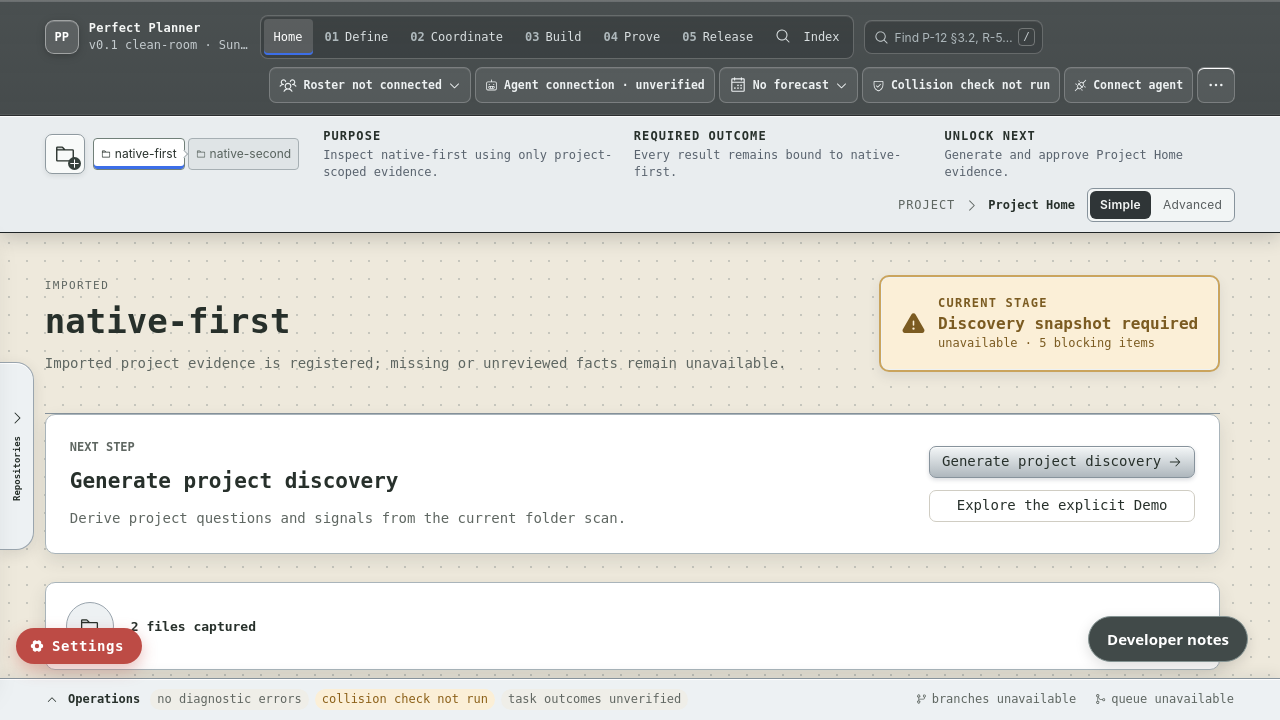
Test: real controller routes the UI request to exact native command and records verified numeric-time observation
Click the button named "More actions" at (1216, 85), box [1197, 67, 1235, 103]
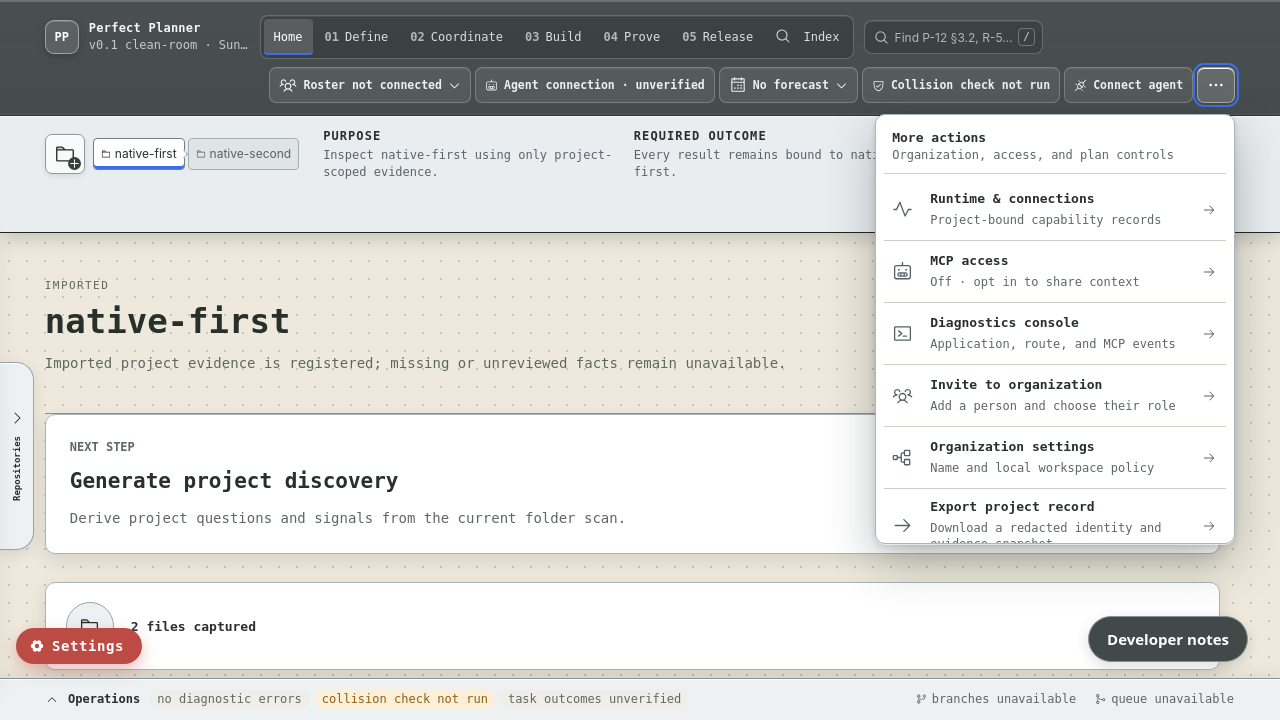
Click the button "Runtime & connections Project-bound capability records" at (1055, 210), box [884, 179, 1226, 241]
(page scrolled)
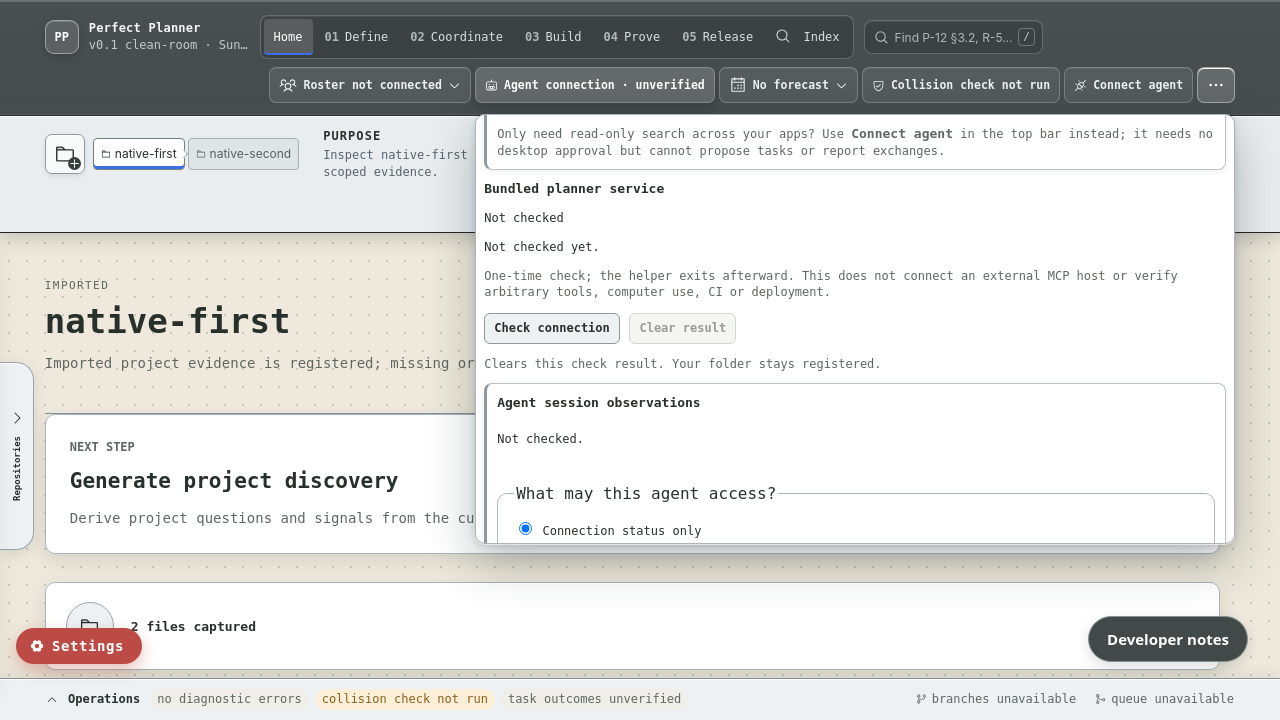
Click the button "Check connection" at (552, 329), box [484, 313, 620, 344]
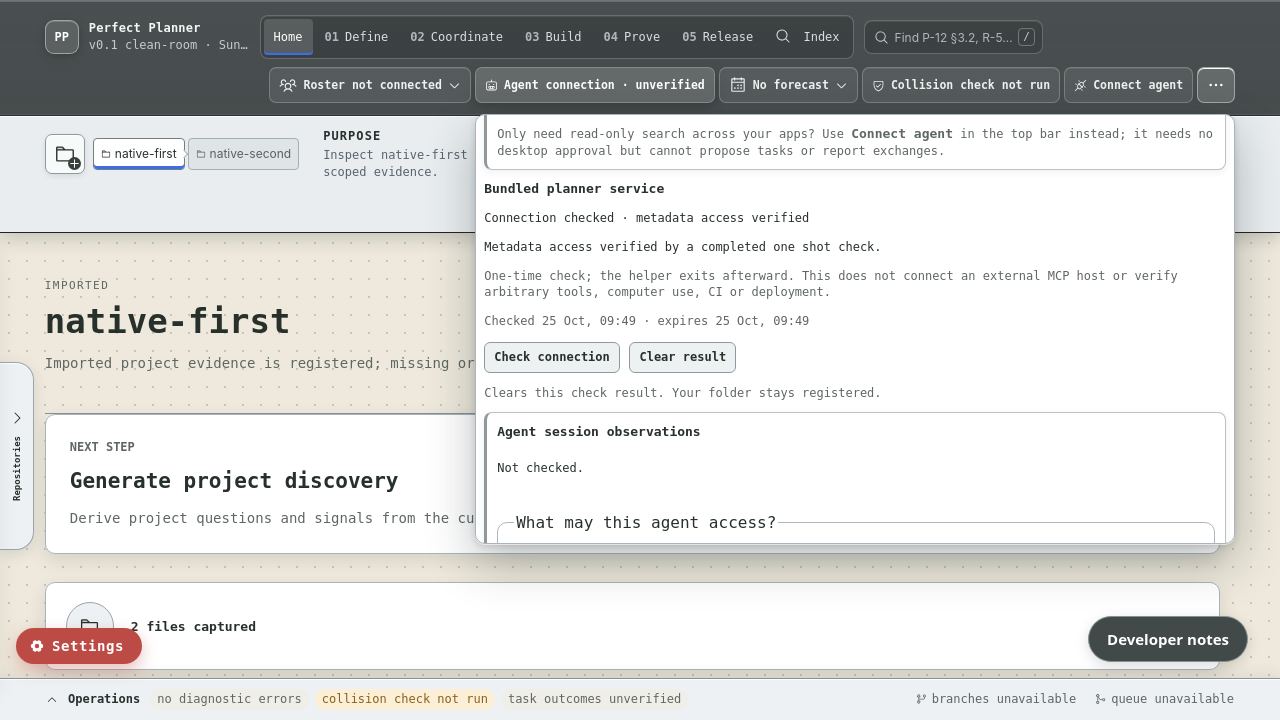
Expected: the text "Connection checked · metadata access verified" is shown, [484, 211, 809, 225]
